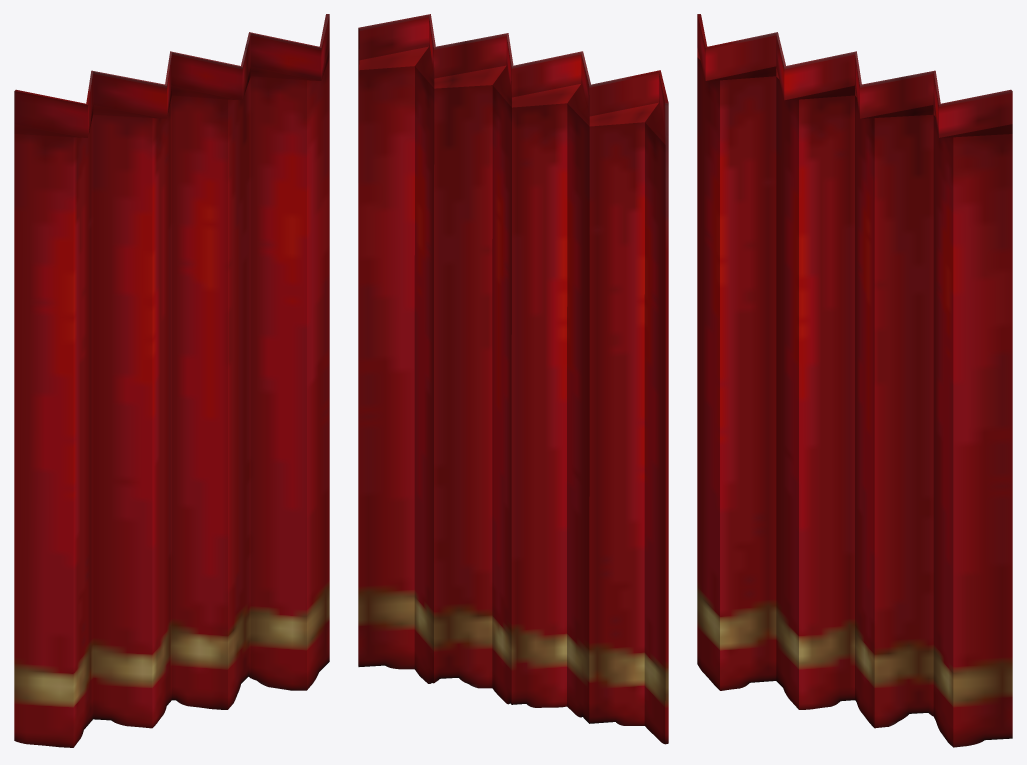
File: Inside_Poly_Curtain_02.obj
The picture shows the model from 3 angles, left to right: view 1: azimuth 30°, elevation 25°; view 2: azimuth 150°, elevation 25°; view 3: azimuth 330°, elevation 25°; orthographic projection.
Parts seen in each view (by area): view 1: Plane.001; view 2: Plane.001; view 3: Plane.001.
Part boxes in pixels (x1=…): Plane.001: x1=14, y1=14, x2=329, y2=747; Plane.001: x1=358, y1=14, x2=668, y2=744; Plane.001: x1=697, y1=14, x2=1012, y2=747.
Bounding box in the file's own units: 1 × 1.99 × 0.19.
1 material, 1 textured.
